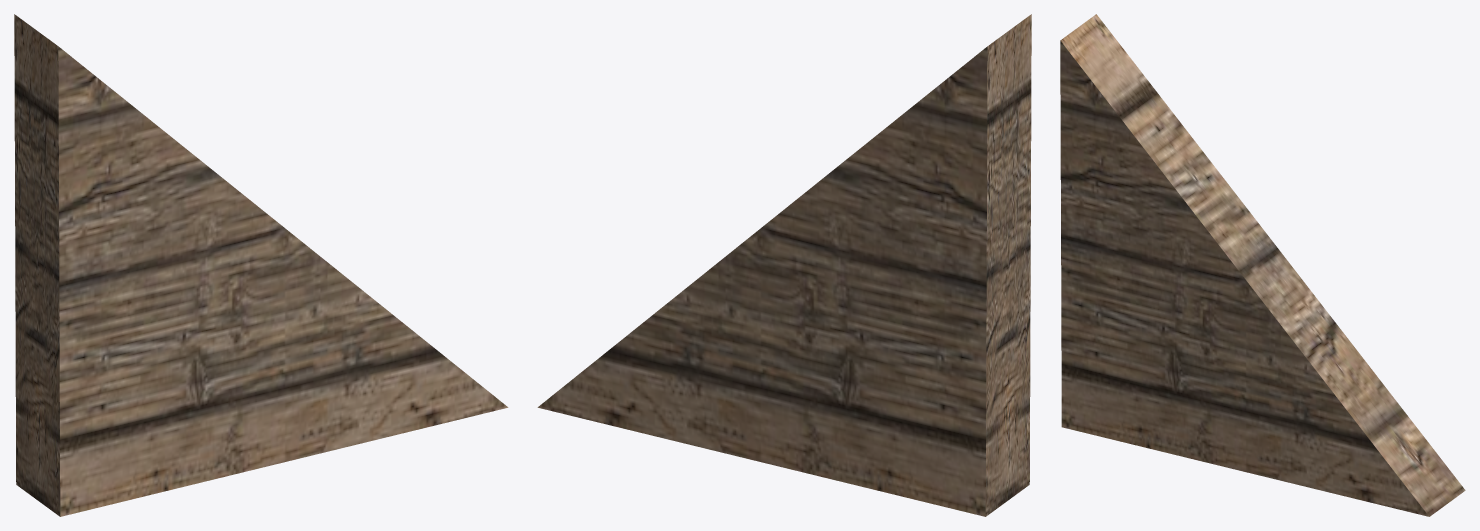
Rendered from Wood 45.glb.
3 renders of one model, left to right at view 1: azimuth 30°, elevation 25°; view 2: azimuth 150°, elevation 25°; view 3: azimuth 330°, elevation 25°, orthographic. The views are drawn at different scales.
Parts seen in each view (by area): view 1: Plane; view 2: Plane; view 3: Plane.
Boxes of the visible parts, box(x1,y1,x2,y2) form: Plane: box(14, 14, 508, 516); Plane: box(537, 14, 1031, 516); Plane: box(1060, 14, 1465, 516).
Bounding box in the file's own units: 1.46 × 1.46 × 0.2486.
1 material, 1 textured.
